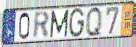0: (18, 11, 31, 41)
7: (105, 6, 120, 36)
G: (68, 8, 86, 39)
M: (49, 9, 70, 39)
Q: (85, 5, 102, 38)
R: (33, 11, 51, 41)
